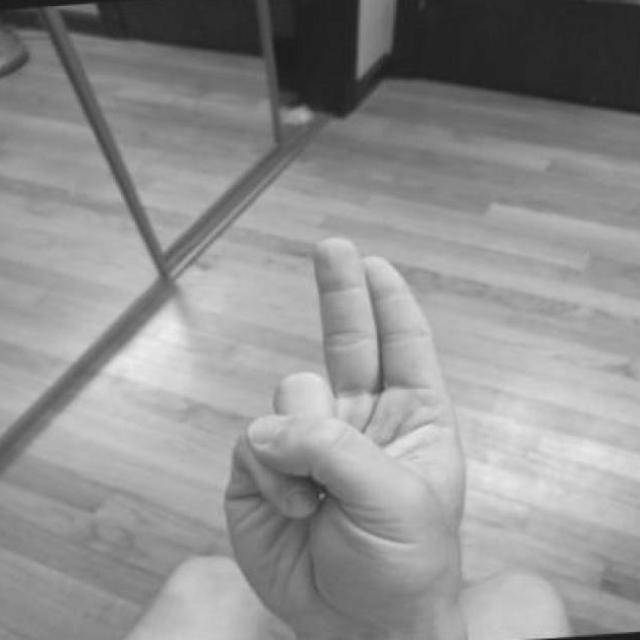U: (207, 233, 495, 640)
